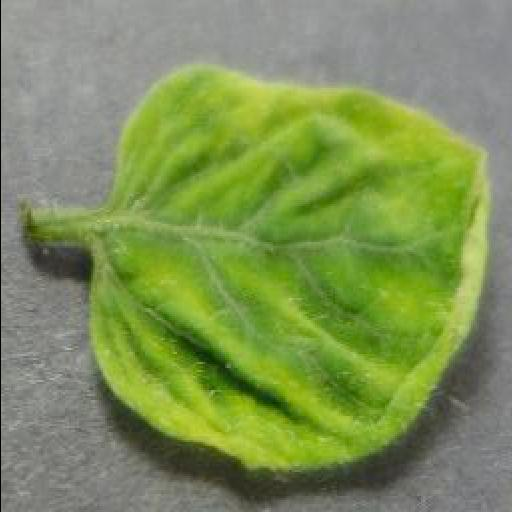disease_tomato: (90, 63, 488, 473)
